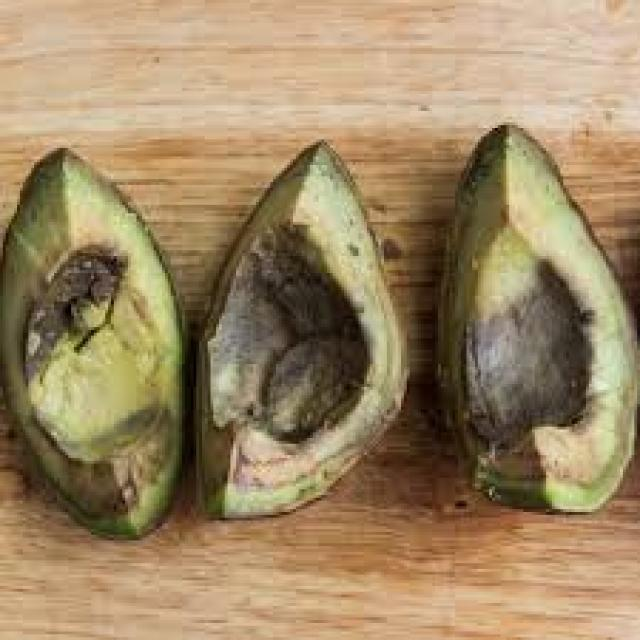organic waste: (185, 137, 409, 520), (432, 117, 638, 514), (6, 142, 188, 538)
